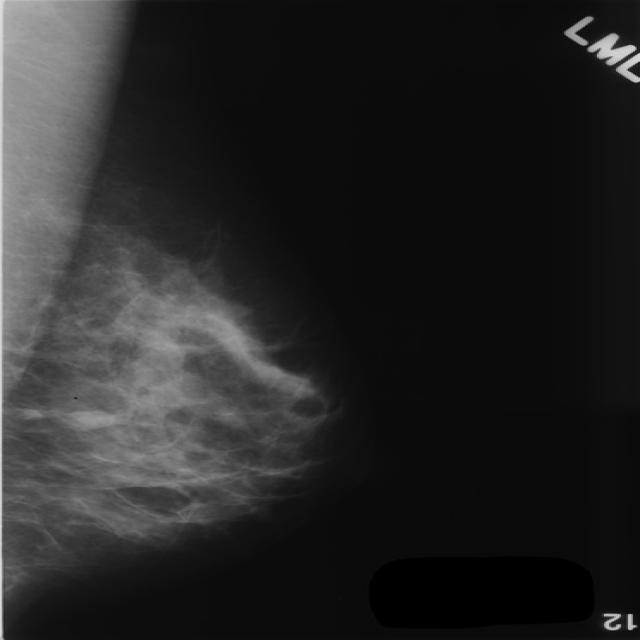tumour: (60, 407, 115, 430)
